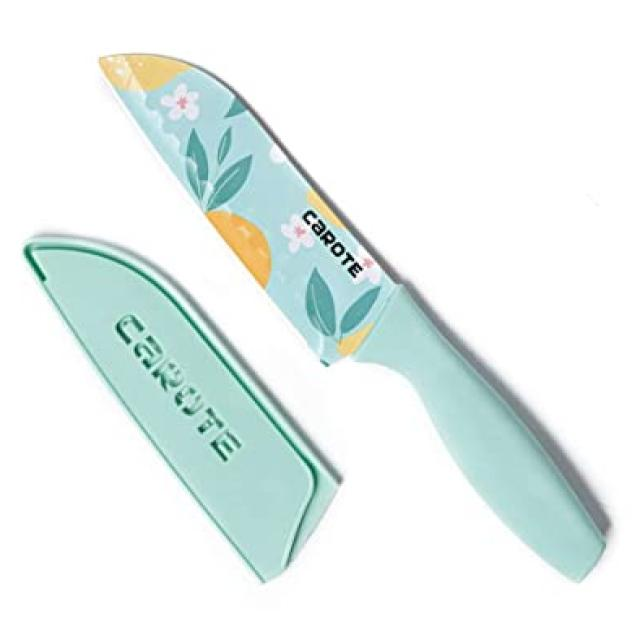Weapon: (101, 54, 603, 575)
